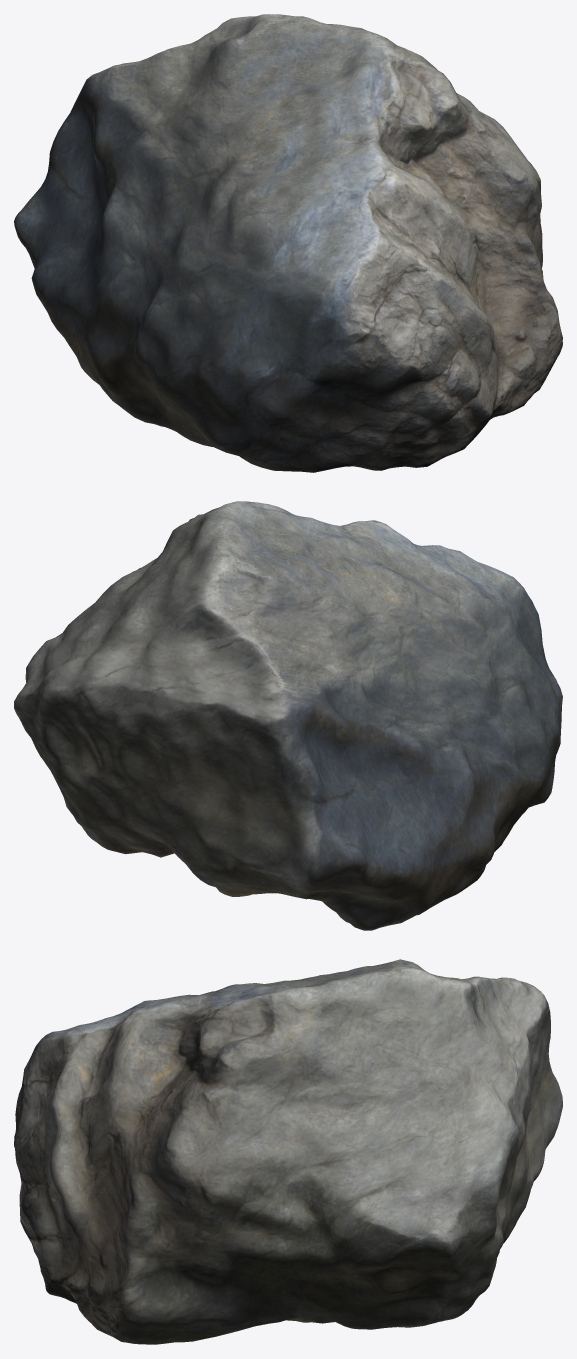
File: Realistic_rock_0508164805.glb
3 views of the same model, one above another, from view 1: azimuth 30°, elevation 25°; view 2: azimuth 150°, elevation 25°; view 3: azimuth 270°, elevation 25° (orthographic). The views are drawn at different scales.
Size of the model in its own units: 1.83 by 1.38 by 1.99.
1 material, 1 textured.
